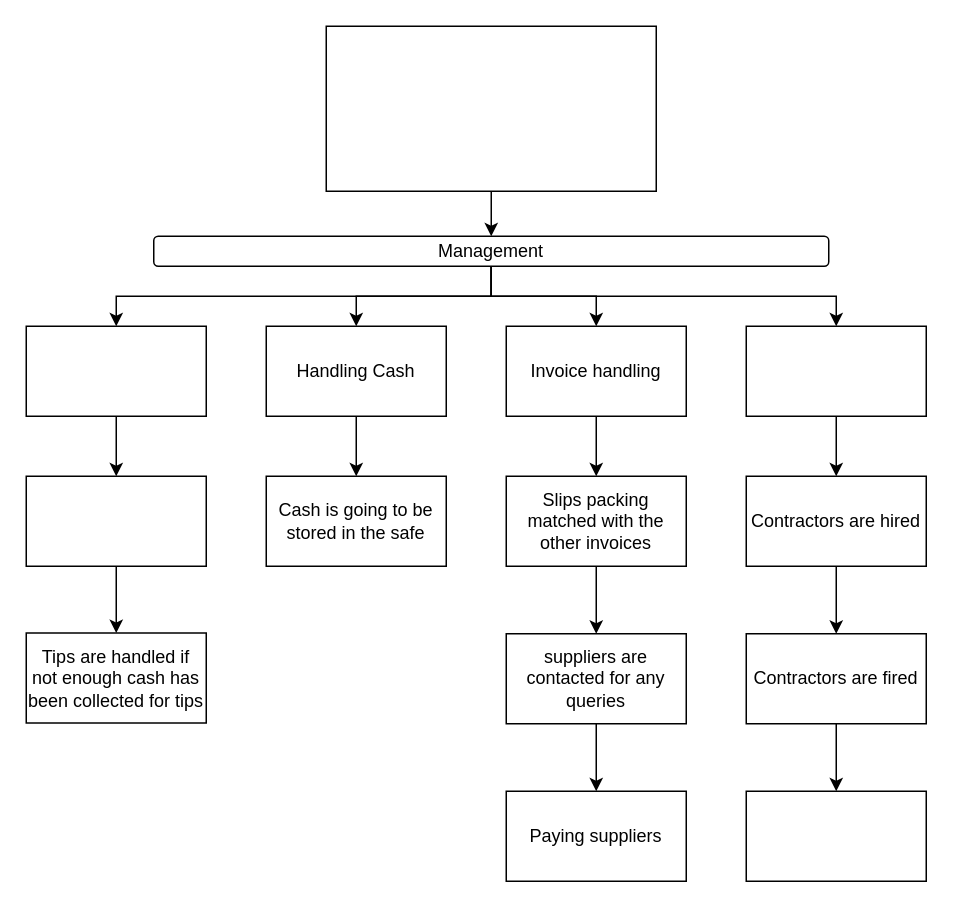
This 953x908 diagram has some shape labels left out. The centre of each missing label's shape, as x and y in pixels:
"Back Office" goes at pixel 490 108.
"Contractors" goes at pixel 835 370.
"Contractors are paid" goes at pixel 835 835.
"Payroll management" goes at pixel 115 370.
"Wage of staff management" goes at pixel 115 520.
